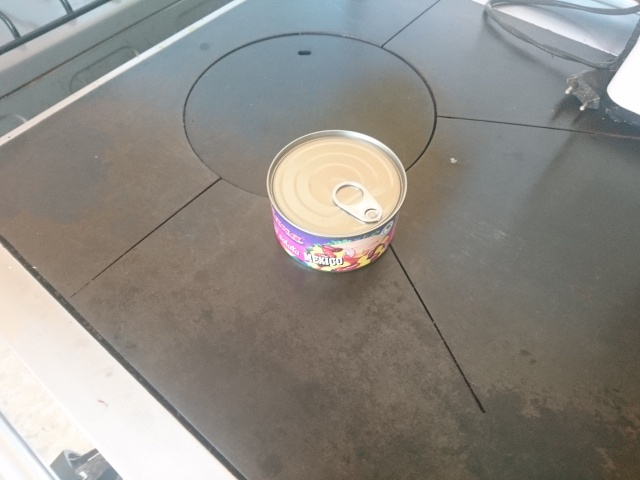Giana Tuna Salad Mexico 185g: (264, 127, 409, 275)
